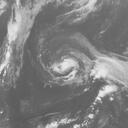cyclone: (52, 54, 81, 81)
